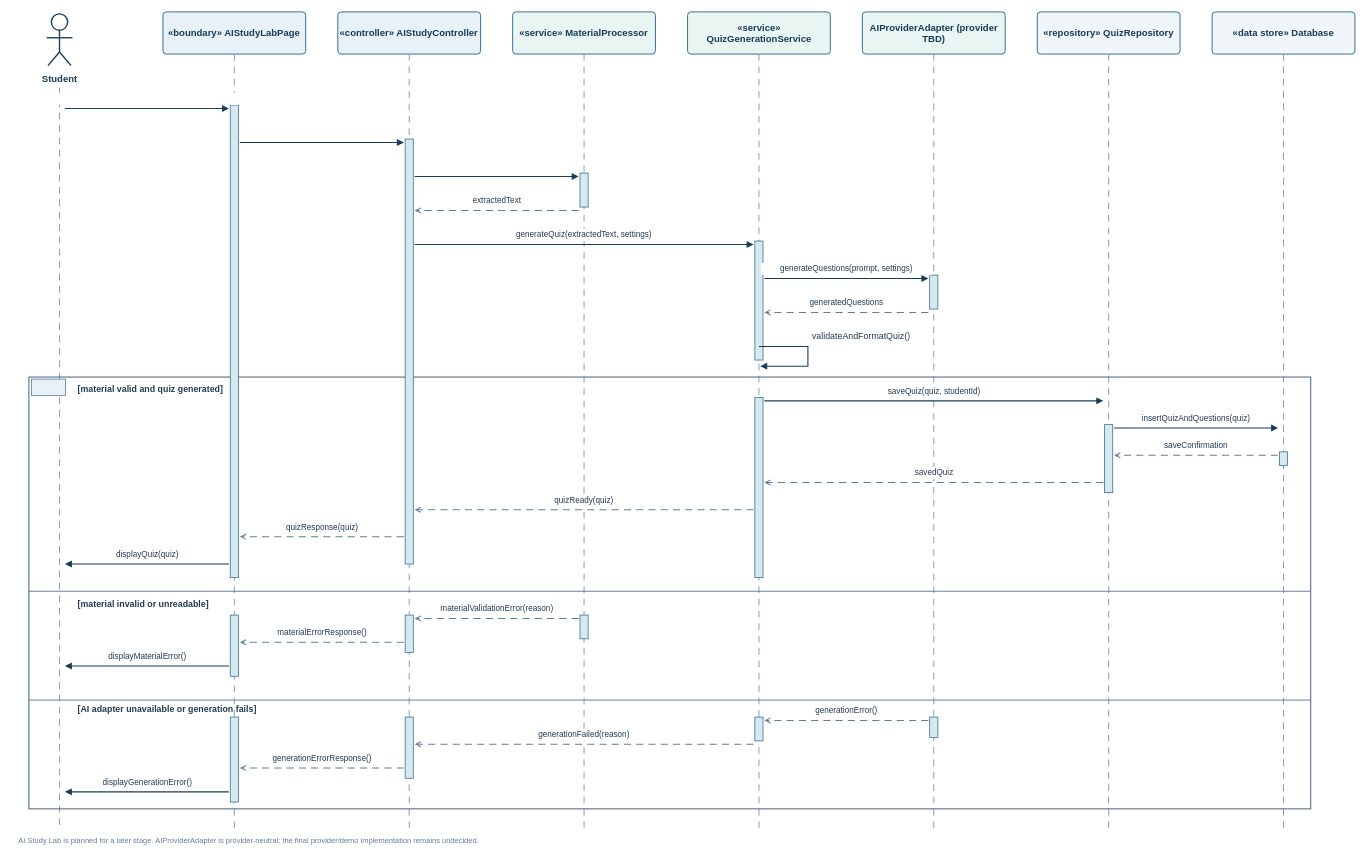
This 1367x861 diagram has some shape labels left out. The centre of each missing label's shape, as x and y in pixels:
"alt" belongs at point 48,386.
"extractAndValidateText(material)" belongs at point 496,166.
"generateQuiz(material, settings)" belongs at point 321,132.
"provideMaterialAndQuizSettings(file, settings)" belongs at point 146,98.
